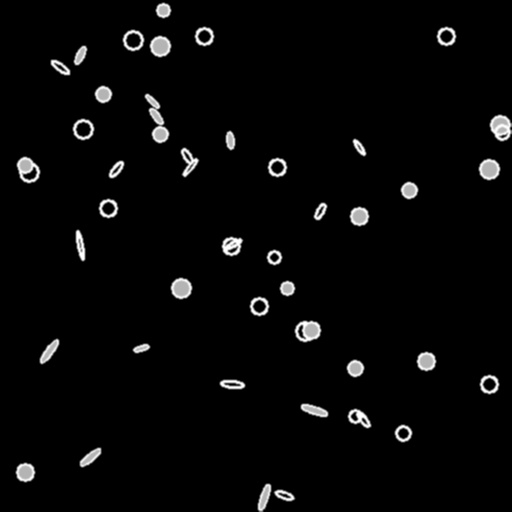pseudomonas: (39, 338, 59, 364), (78, 447, 102, 467), (300, 403, 328, 417), (257, 484, 271, 510), (50, 58, 70, 76), (355, 410, 371, 428), (182, 158, 198, 176), (148, 107, 164, 125), (108, 160, 124, 178), (73, 45, 87, 65), (223, 237, 243, 251), (75, 231, 85, 259), (313, 202, 327, 220), (274, 489, 294, 501), (352, 139, 366, 155), (180, 148, 194, 164), (145, 94, 159, 108), (220, 380, 244, 388), (226, 131, 234, 149), (133, 344, 149, 352)
synechocystis: (296, 322, 314, 340), (491, 116, 509, 134), (124, 31, 142, 49), (20, 163, 38, 181), (172, 279, 190, 297), (151, 37, 169, 55), (74, 120, 92, 138), (480, 160, 498, 178), (303, 322, 319, 338), (418, 353, 434, 369), (223, 238, 239, 254), (351, 208, 367, 224), (17, 464, 33, 480), (481, 376, 497, 392), (438, 28, 454, 44), (100, 200, 116, 216), (196, 28, 212, 44), (269, 159, 285, 175), (251, 298, 267, 314), (402, 183, 416, 197), (495, 125, 509, 139), (18, 158, 32, 172), (96, 87, 110, 101), (348, 361, 362, 375), (153, 127, 167, 141), (396, 426, 410, 440), (349, 410, 361, 422), (268, 251, 280, 263), (281, 282, 293, 294), (157, 4, 169, 16)
